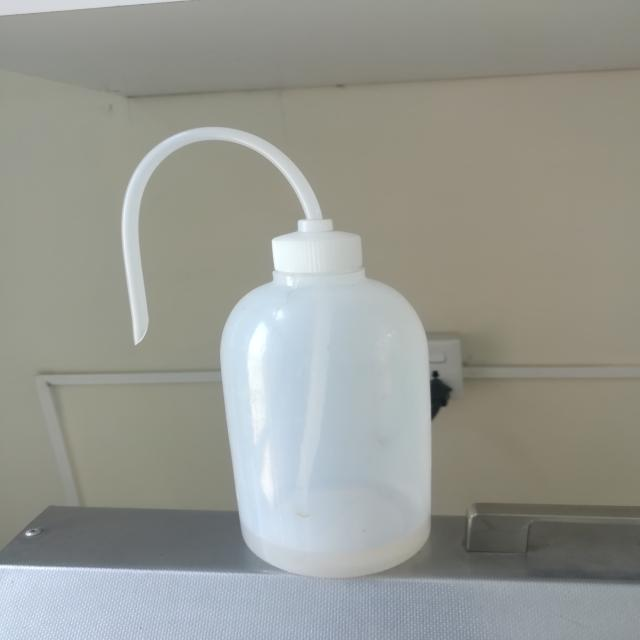Wash_Bottle: (76, 96, 473, 594)
